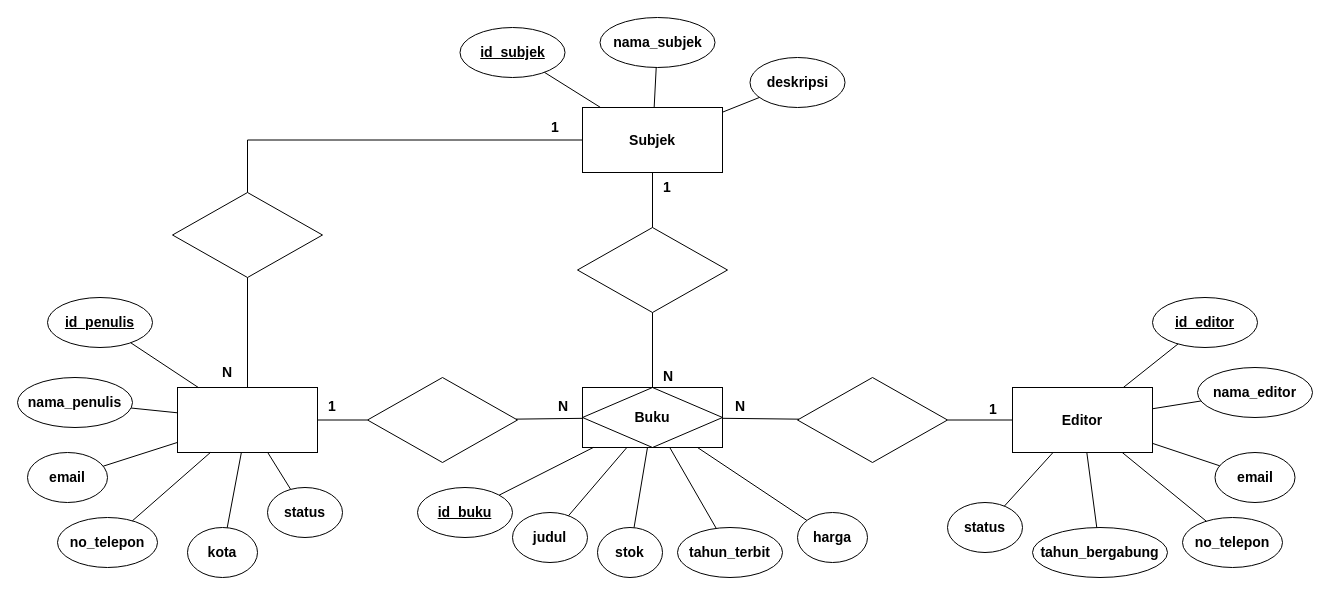
Some shapes in this 1330 by 595 pixel diagram are drawn without their labels. The box of each missing label's shape, as (x1, y1, x2, y2) in pixels:
Berspesialisasi Pada: (172, 192, 322, 278)
Mencakup: (576, 226, 728, 312)
Mengedit: (796, 376, 948, 462)
Menulis: (366, 376, 518, 462)
Penulis: (176, 386, 318, 452)
